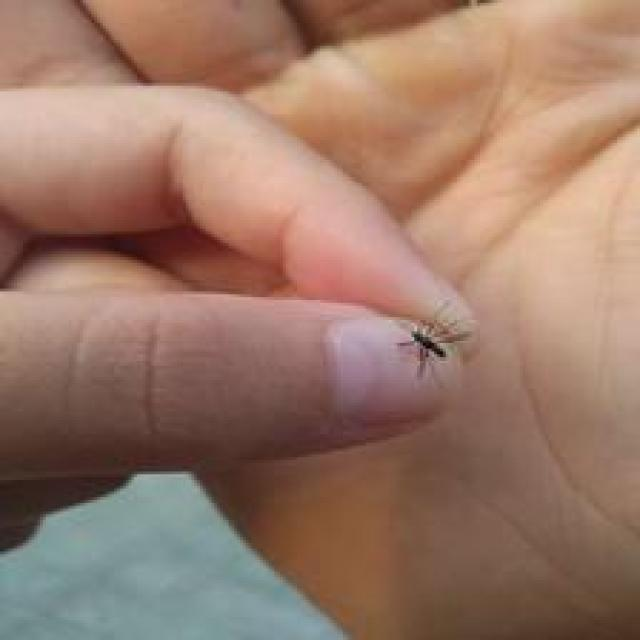Aedes albopictus: (394, 298, 474, 378)
